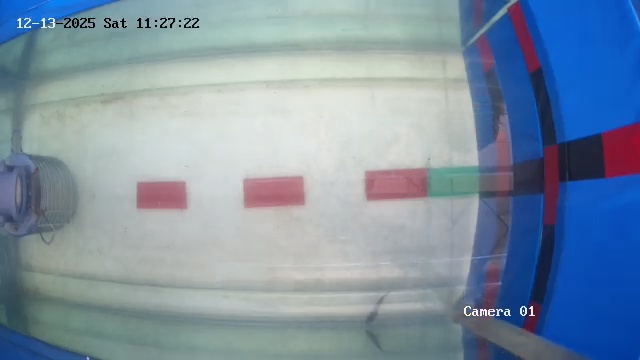fish: (325, 304, 357, 328)
